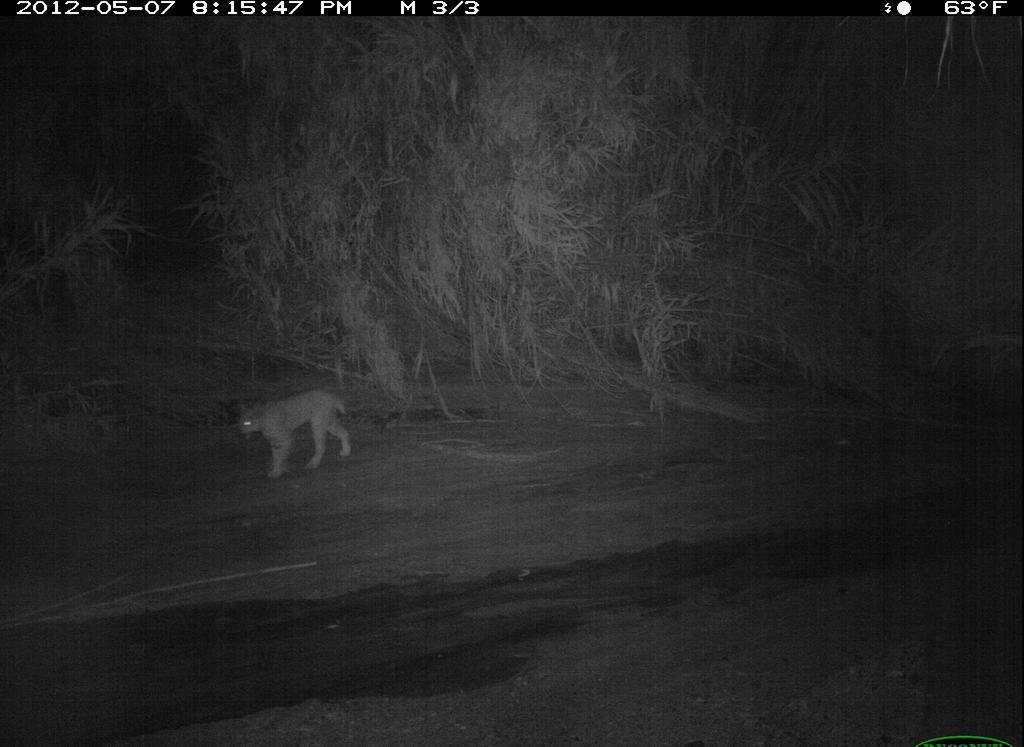bobcat: (236, 390, 363, 483)
